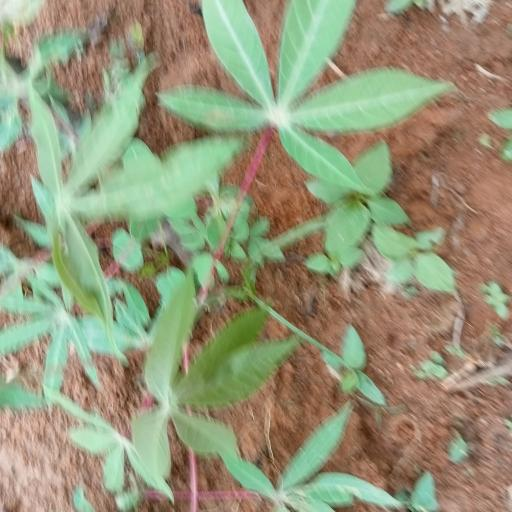Cassava_Mosaic: (166, 0, 450, 188)
